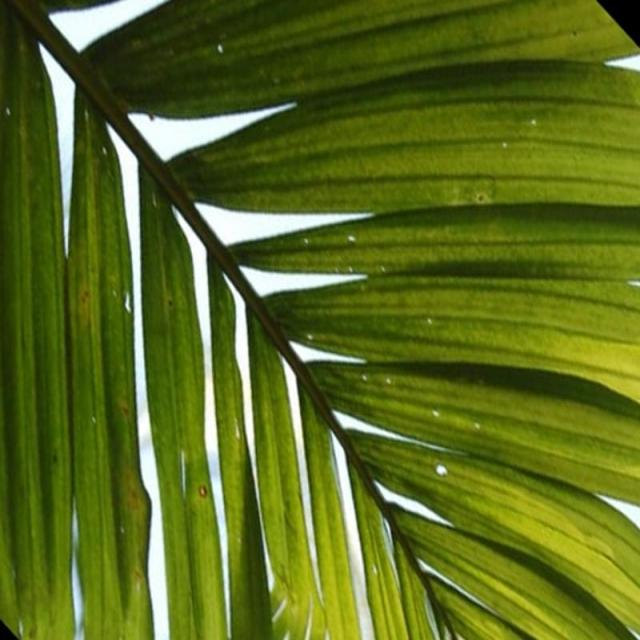Healthy_Leaf: (139, 163, 541, 569)
